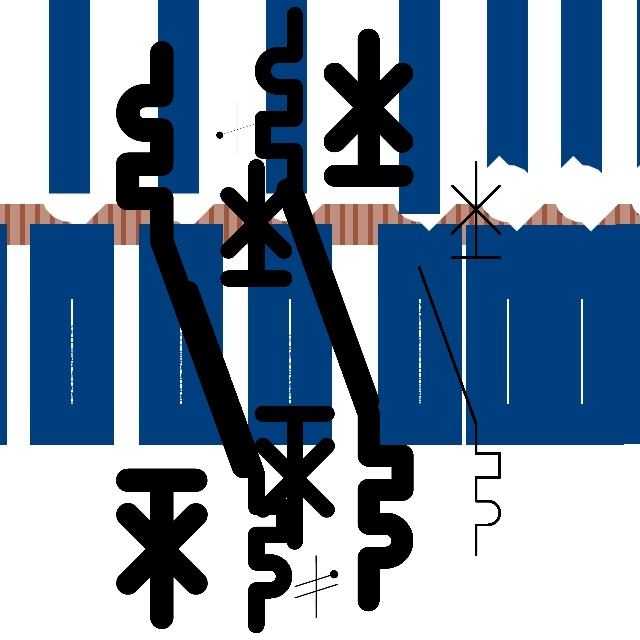interruptor_termomagnetico: (113, 38, 258, 631), (273, 25, 417, 615), (249, 1, 384, 555), (178, 155, 296, 637), (409, 152, 510, 565)
